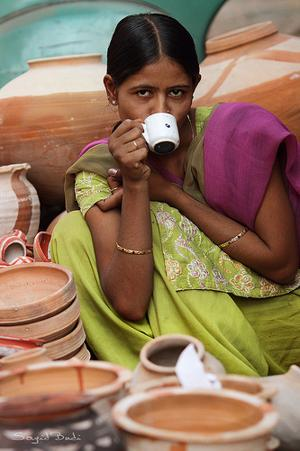person: (45, 8, 300, 379)
